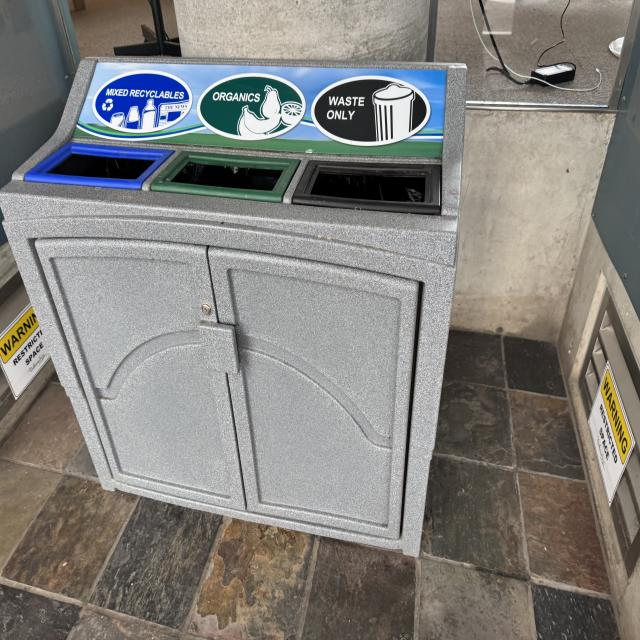Dustbin: (2, 56, 471, 560)
